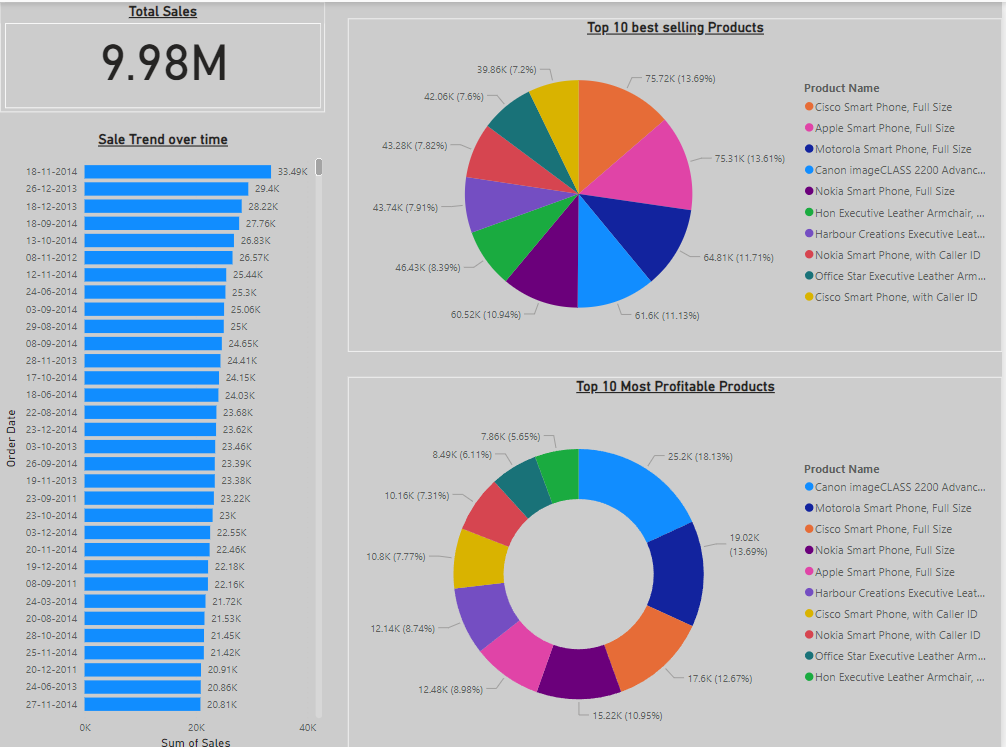

The page's visual inventory and layout, read from the dashboard file:
{"tool":"powerbi","page":{"name":"Page 1","canvas":[1200,900],"ordinal":0},"visuals":[{"type":"cardVisual","title":"Total Sales","fields":{"Data":["Sum(sale orderscsv.Sales)"]},"box":[0,0,389.3,132.3],"z":0},{"type":"barChart","title":"Sale Trend over time","fields":{"Y":["Sum(sale orderscsv.Sales)"],"Category":["sale orderscsv.Order Date"]},"box":[0,155.3,390.9,745.3],"z":1000},{"type":"donutChart","title":"Top 10 Most Profitable Products","fields":{"Category":["sale orderscsv.Product Name"],"Y":["Sum(sale orderscsv.Profit)"]},"box":[417.1,449.4,783.8,451.2],"z":2000},{"type":"pieChart","title":"Top 10 best selling Products","fields":{"Category":["sale orderscsv.Product Name"],"Y":["Sum(sale orderscsv.Sales)"]},"box":[417.1,19.8,783.8,399.1],"z":3000}]}

Visuals, with their boxes in screenshot pixels (x1, y1, x2, y2), scaled from the page's 1200x900 canvas onto the 1006x747 screenshot:
"Total Sales" cardVisual: pyautogui.locateOnScreen(0, 0, 326, 110)
"Sale Trend over time" barChart: pyautogui.locateOnScreen(0, 129, 328, 746)
"Top 10 Most Profitable Products" donutChart: pyautogui.locateOnScreen(350, 373, 1005, 746)
"Top 10 best selling Products" pieChart: pyautogui.locateOnScreen(350, 16, 1005, 348)
